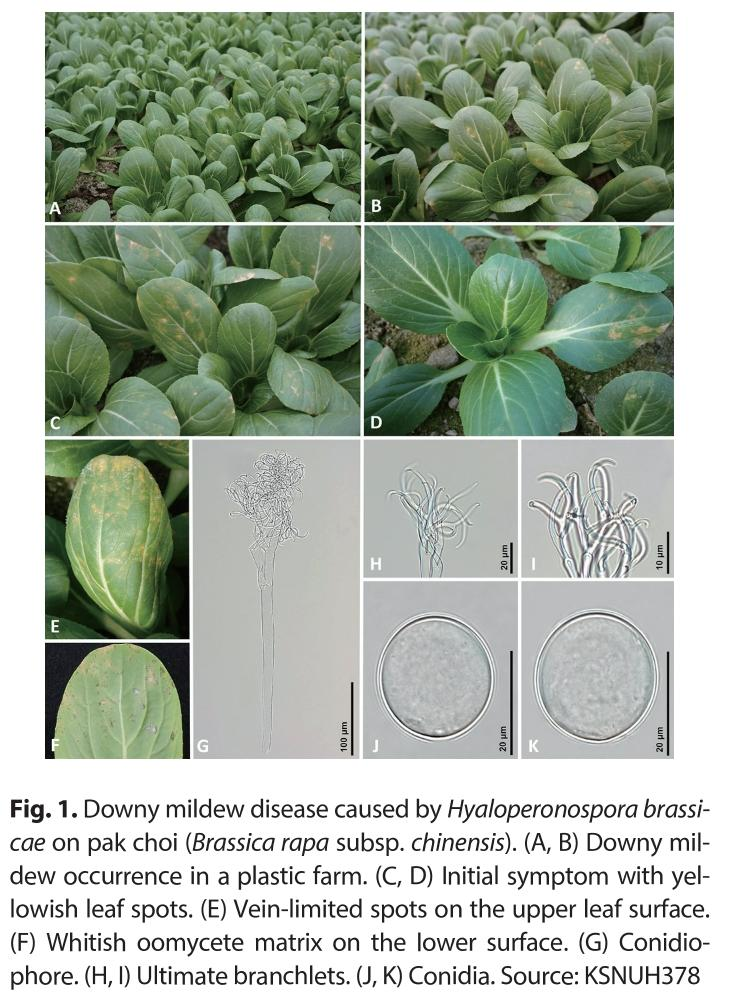Bok-Choy-Diseased: (71, 450, 173, 628), (56, 646, 185, 754), (551, 263, 672, 374), (126, 268, 240, 366), (266, 236, 356, 312)
